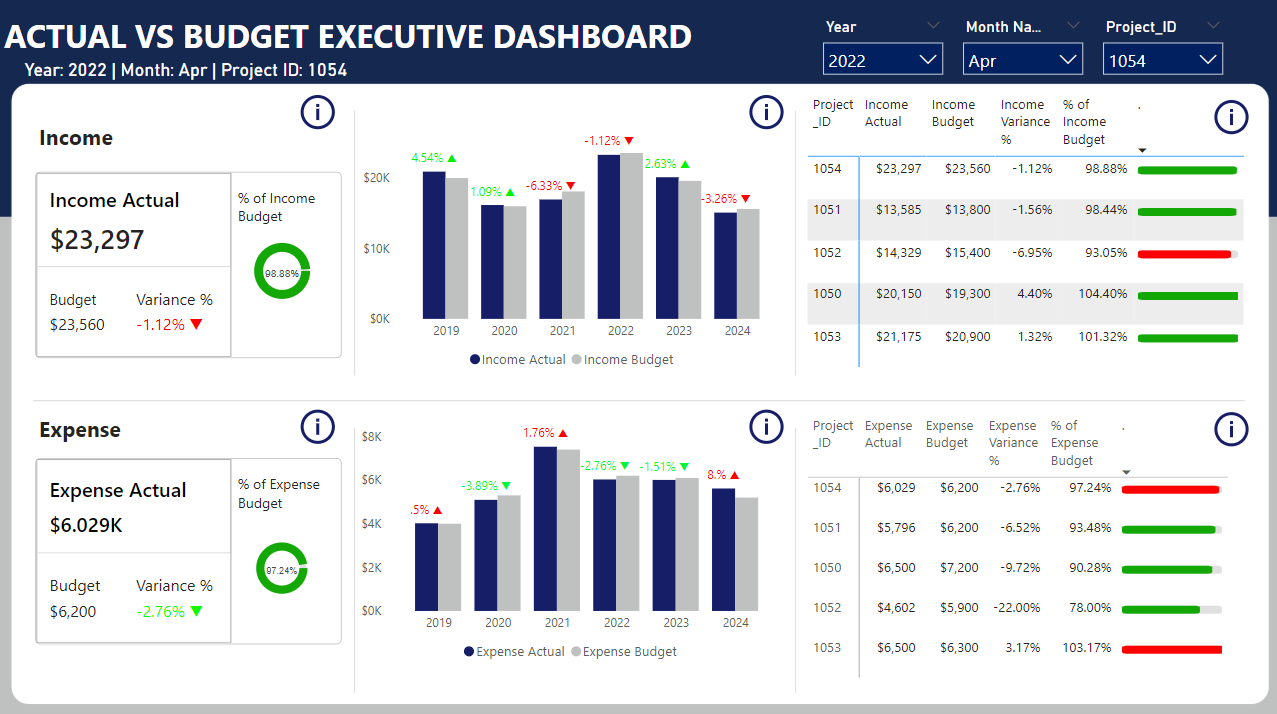

This screenshot's page, from the dashboard's own definition file:
{"tool":"powerbi","page":{"name":"Page 1","canvas":[1280,720],"ordinal":0},"visuals":[{"type":"slicer","fields":{"Values":["Data.Year"]},"box":[813.3,15,140,63.3],"z":0},{"type":"shape","box":[35.3,173.8,306.7,186.7],"z":0,"group":"g1"},{"type":"shape","box":[35.3,459.8,306.7,186.7],"z":0,"group":"g2"},{"type":"group","id":"g1","title":"Group 1","box":[32,170,310,194],"z":1000},{"type":"cardVisual","fields":{"Data":["Key Measures.Expense Actual"]},"box":[32,456,205.7,194.8],"z":1000,"group":"g2"},{"type":"slicer","fields":{"Values":["Data.Month Name"]},"box":[953.3,15,140,63.3],"z":2000},{"type":"cardVisual","fields":{"Data":["Key Measures.% of Expense Budget"]},"box":[230.4,522.2,107.5,97.5],"z":2000,"group":"g2"},{"type":"group","id":"g2","title":"Group 1","box":[32,456,310,194],"z":3000},{"type":"textbox","box":[233.4,471.5,105,48.3],"z":3000,"group":"g2"},{"type":"slicer","fields":{"Values":["Data.Project_ID"]},"box":[1093.3,15,140,63.3],"z":4000},{"type":"cardVisual","fields":{"Data":["Key Measures.Income Actual"]},"box":[32,170,205.7,194.8],"z":4000,"group":"g1"},{"type":"cardVisual","fields":{"Data":["Key Measures.% of Income Budget"]},"box":[228.4,222.1,113.3,101.7],"z":5000,"group":"g1"},{"type":"pivotTable","fields":{"Rows":["Data.Project_ID"],"Values":["Key Measures.Expense Actual","Key Measures.Expense Budget","Key Measures.Expense Variance %","Key Measures.% of Expense Budget","Key Measures.Expense Bar Chart"]},"box":[804,412,458,286],"z":5000},{"type":"clusteredColumnChart","fields":{"Y":["Key Measures.Income Actual","Key Measures.Income Budget"],"Category":["Data.Year"]},"box":[358.3,118.3,431.7,261.7],"z":6000},{"type":"textbox","box":[233.4,185.5,105,48.3],"z":6000,"group":"g1"},{"type":"clusteredColumnChart","fields":{"Y":["Key Measures.Expense Actual","Key Measures.Expense Budget"],"Category":["Data.Year"]},"box":[358,412,432,260],"z":7000},{"type":"pivotTable","fields":{"Rows":["Data.Project_ID"],"Values":["Key Measures.Income Actual","Key Measures.Income Budget","Key Measures.Income Variance %","Key Measures.% of Income Budget","Key Measures.Income Bar Chart"]},"box":[803.3,90,458.3,303.3],"z":8000},{"type":"textbox","box":[35,118.3,136.7,40],"z":9000},{"type":"textbox","box":[35,411.7,136.7,40],"z":10000},{"type":"textbox","box":[0,11.7,736.7,71.7],"z":11000},{"type":"card","fields":{"Values":["Key Measures.Dynamic Header"]},"box":[11.7,55,346.7,35],"z":12000},{"type":"actionButton","box":[296.7,90,45,48.3],"z":13000},{"type":"actionButton","box":[296.7,406.7,45,45],"z":14000},{"type":"actionButton","box":[745,90,45,48.3],"z":15000},{"type":"actionButton","box":[1210,95,45,48.3],"z":16000},{"type":"actionButton","box":[745,406.7,45,45],"z":17000},{"type":"actionButton","box":[1210,408.3,45,45],"z":18000}]}

Visuals, with their boxes in screenshot pixels (x1, y1, x2, y2), scaled from the page's 1280x720 canvas onto the 1277x714 screenshot:
slicer - Data.Year: left=811, top=15, right=951, bottom=78
shape: left=35, top=172, right=341, bottom=357
shape: left=35, top=456, right=341, bottom=641
"Group 1" group: left=32, top=169, right=341, bottom=361
cardVisual - Key Measures.Expense Actual: left=32, top=452, right=237, bottom=645
slicer - Data.Month Name: left=951, top=15, right=1091, bottom=78
cardVisual - Key Measures.% of Expense Budget: left=230, top=518, right=337, bottom=615
"Group 1" group: left=32, top=452, right=341, bottom=645
textbox: left=233, top=468, right=338, bottom=515
slicer - Data.Project_ID: left=1091, top=15, right=1230, bottom=78
cardVisual - Key Measures.Income Actual: left=32, top=169, right=237, bottom=362
cardVisual - Key Measures.% of Income Budget: left=228, top=220, right=341, bottom=321
pivotTable - Data.Project_ID x Key Measures.Expense Actual: left=802, top=409, right=1259, bottom=692
clusteredColumnChart - Key Measures.Income Actual x Key Measures.Income Budget: left=357, top=117, right=788, bottom=377
textbox: left=233, top=184, right=338, bottom=232
clusteredColumnChart - Key Measures.Expense Actual x Key Measures.Expense Budget: left=357, top=409, right=788, bottom=666
pivotTable - Data.Project_ID x Key Measures.Income Actual: left=801, top=89, right=1259, bottom=390
textbox: left=35, top=117, right=171, bottom=157
textbox: left=35, top=408, right=171, bottom=448
textbox: left=0, top=12, right=735, bottom=83
card - Key Measures.Dynamic Header: left=12, top=55, right=358, bottom=89
actionButton: left=296, top=89, right=341, bottom=137
actionButton: left=296, top=403, right=341, bottom=448
actionButton: left=743, top=89, right=788, bottom=137
actionButton: left=1207, top=94, right=1252, bottom=142
actionButton: left=743, top=403, right=788, bottom=448
actionButton: left=1207, top=405, right=1252, bottom=450
